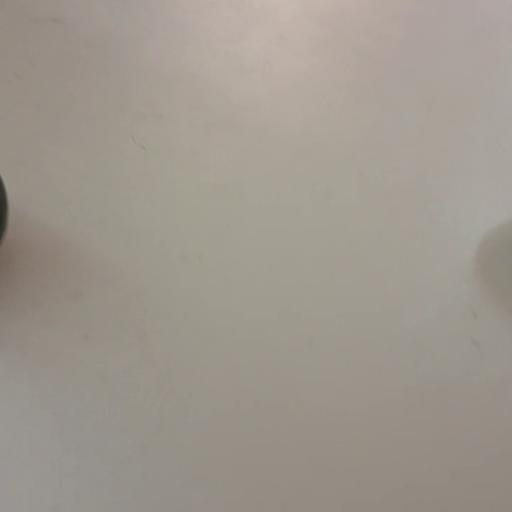dead: (0, 166, 9, 250)
